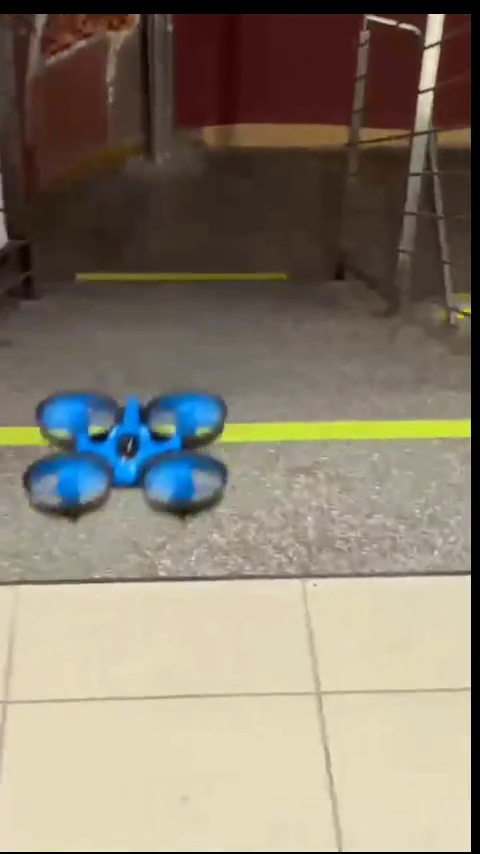drone: (21, 388, 229, 519)
